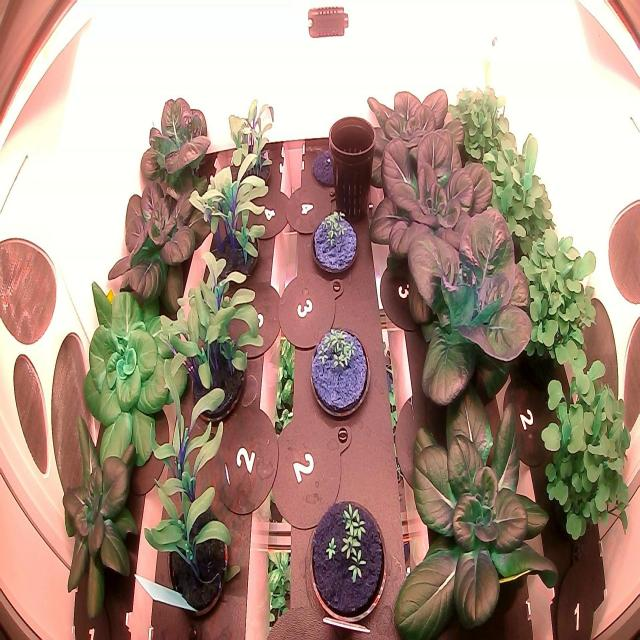germination: (303, 489, 390, 621), (305, 319, 371, 424), (306, 203, 362, 289)
pod: (307, 130, 350, 194)
young: (385, 370, 569, 639), (388, 197, 544, 430), (76, 273, 197, 484), (364, 120, 509, 278), (53, 408, 156, 629), (95, 152, 221, 310), (357, 75, 479, 213), (134, 85, 218, 217)
